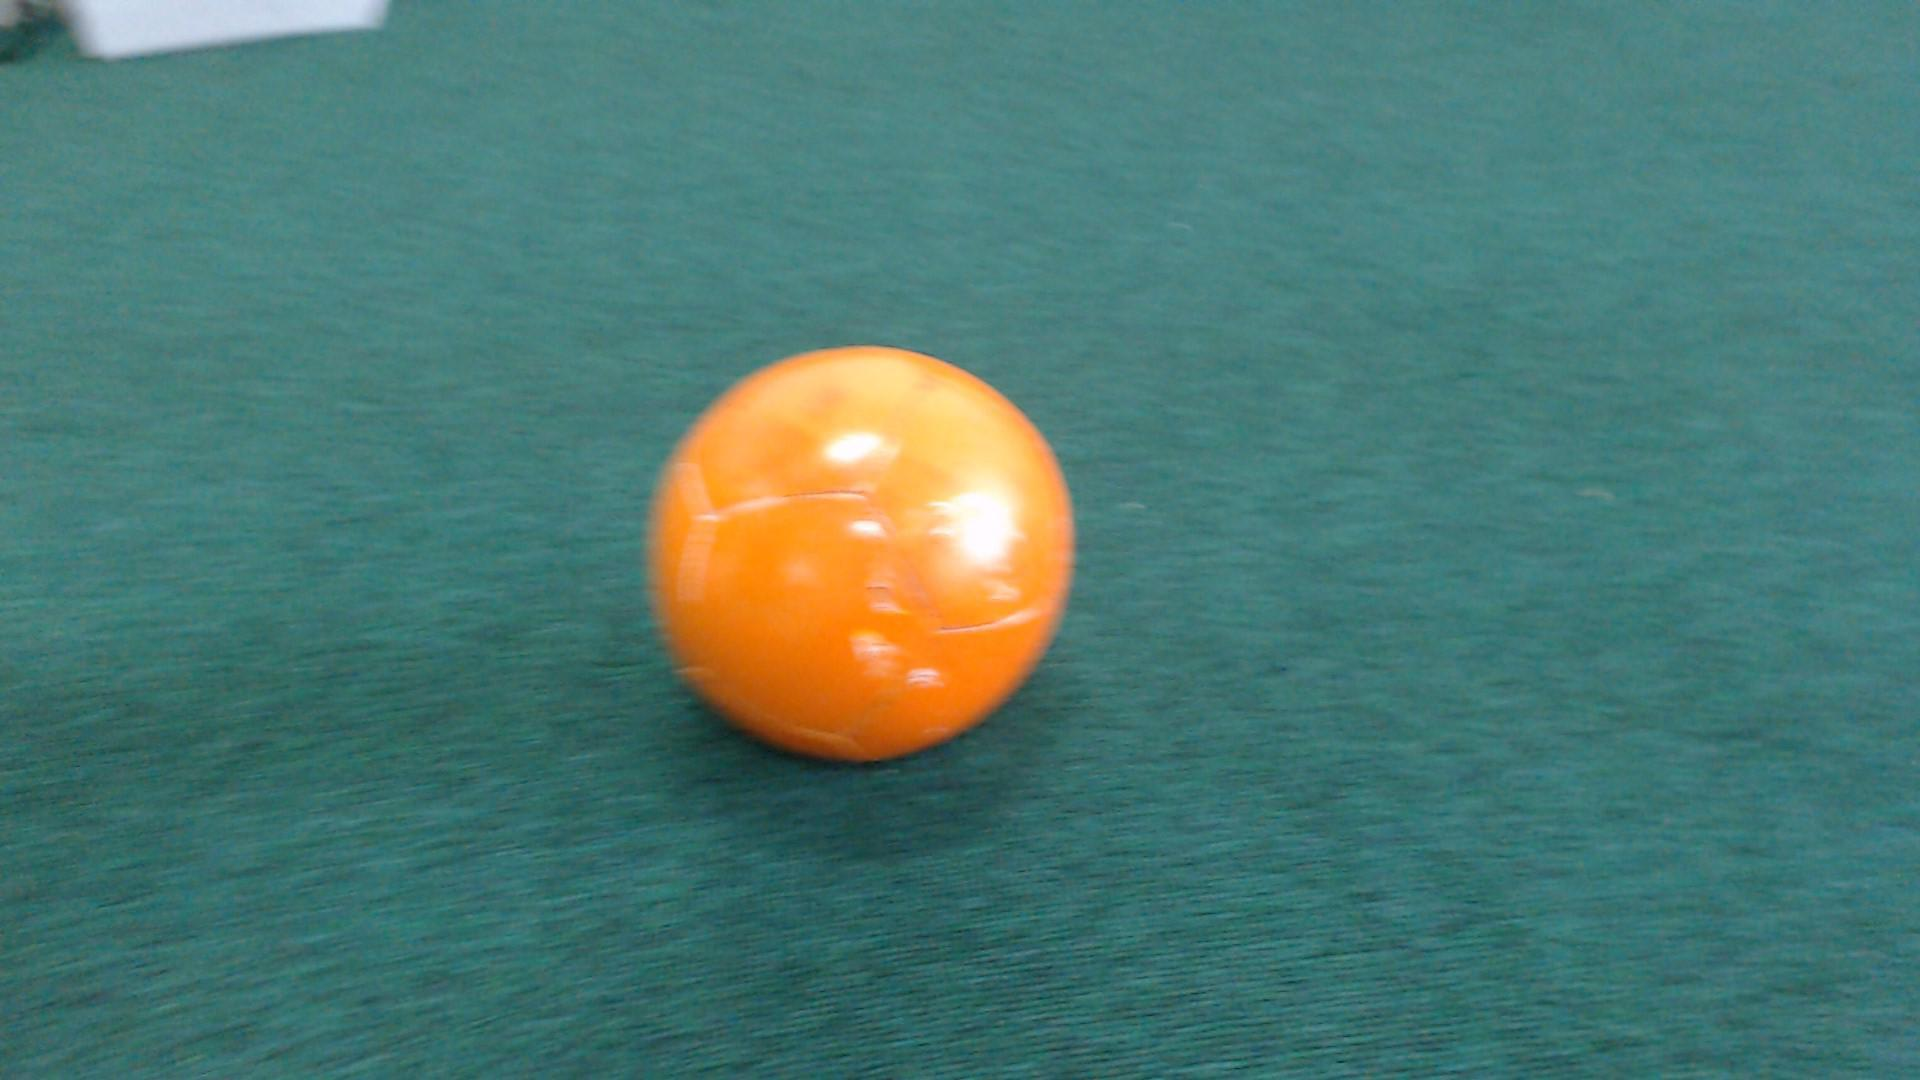bola: (628, 343, 1092, 760)
